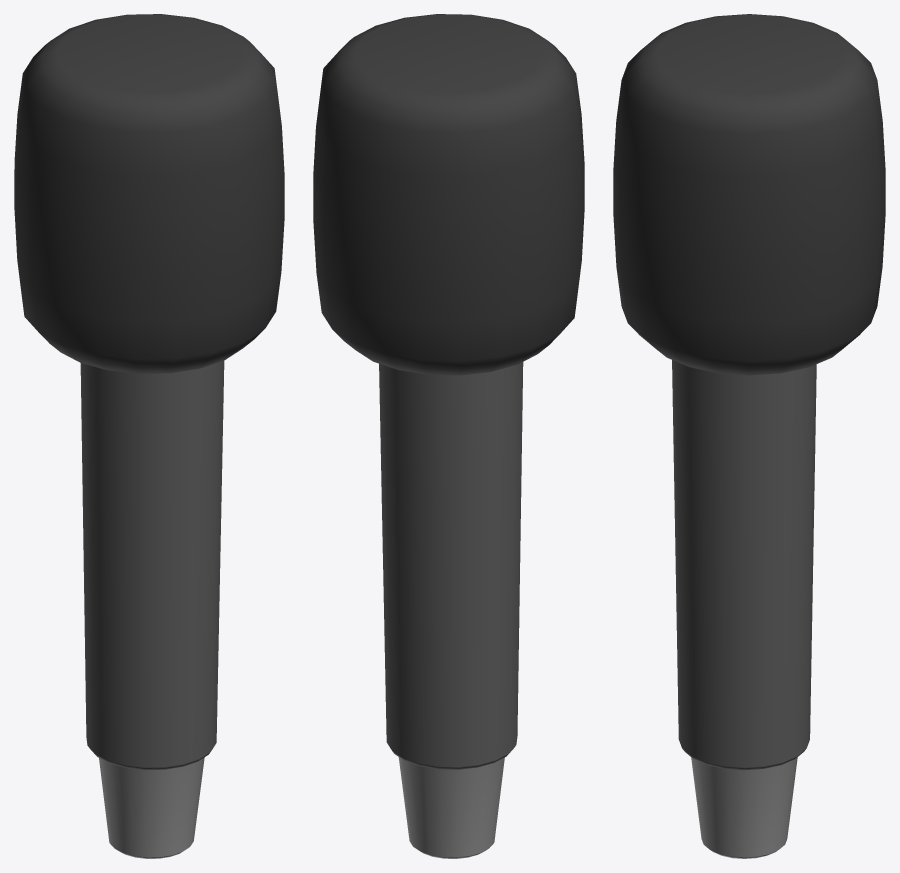
The model's file is Store_13_Microphone_1.glb.
3 renders of one model, left to right at view 1: azimuth 30°, elevation 25°; view 2: azimuth 150°, elevation 25°; view 3: azimuth 270°, elevation 25°, orthographic.
Visible parts, largest first — view 1: Store_13_Microphone_1; view 2: Store_13_Microphone_1; view 3: Store_13_Microphone_1.
Boxes of the visible parts, x1,y1,x2,y2 form: Store_13_Microphone_1: [14, 14, 284, 858]; Store_13_Microphone_1: [313, 14, 584, 858]; Store_13_Microphone_1: [613, 14, 885, 858].
Bounding box in the file's own units: 0.2106 × 0.6733 × 0.2105.
1 material, 1 textured.
